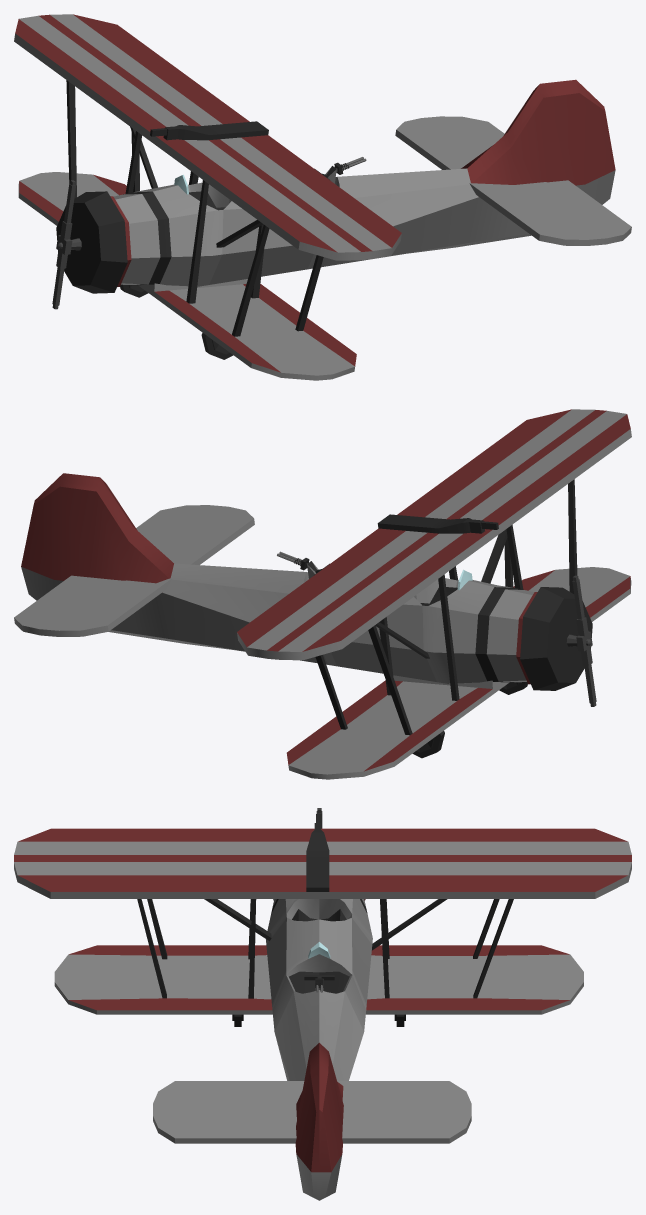
File: FMP_Plane_Shaded.fbx
3 views of the same model, one above another, from view 1: azimuth 30°, elevation 25°; view 2: azimuth 150°, elevation 25°; view 3: azimuth 270°, elevation 25° (orthographic). The views are drawn at different scales.
Visible parts, largest first — view 1: polySurface494; view 2: polySurface494; view 3: polySurface494.
Boxes of the visible parts, box(x1,y1,x2,y2) form: polySurface494: box(14, 14, 631, 380); polySurface494: box(14, 409, 631, 779); polySurface494: box(14, 808, 631, 1200).
Size of the model in its own units: 1641 by 576 by 1646.
